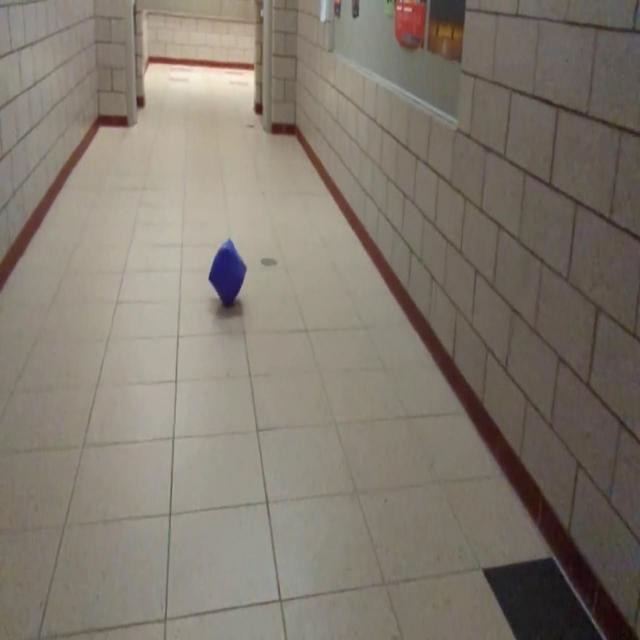frc_cube: (207, 242, 244, 308)
